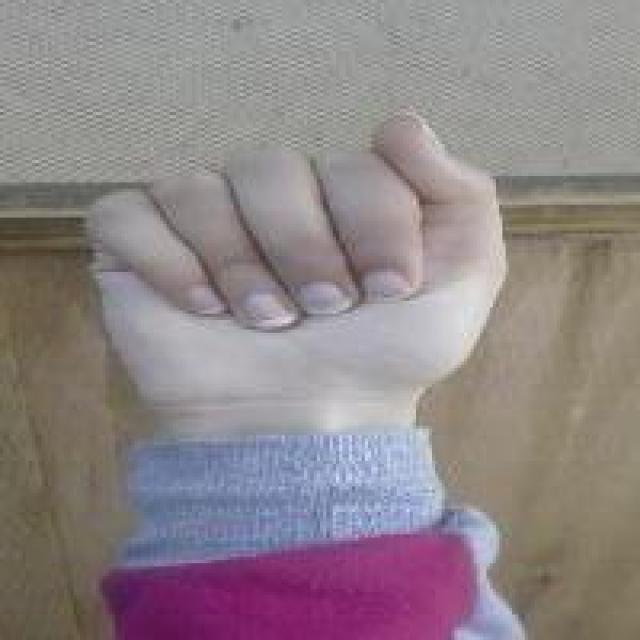A: (80, 110, 512, 412)
